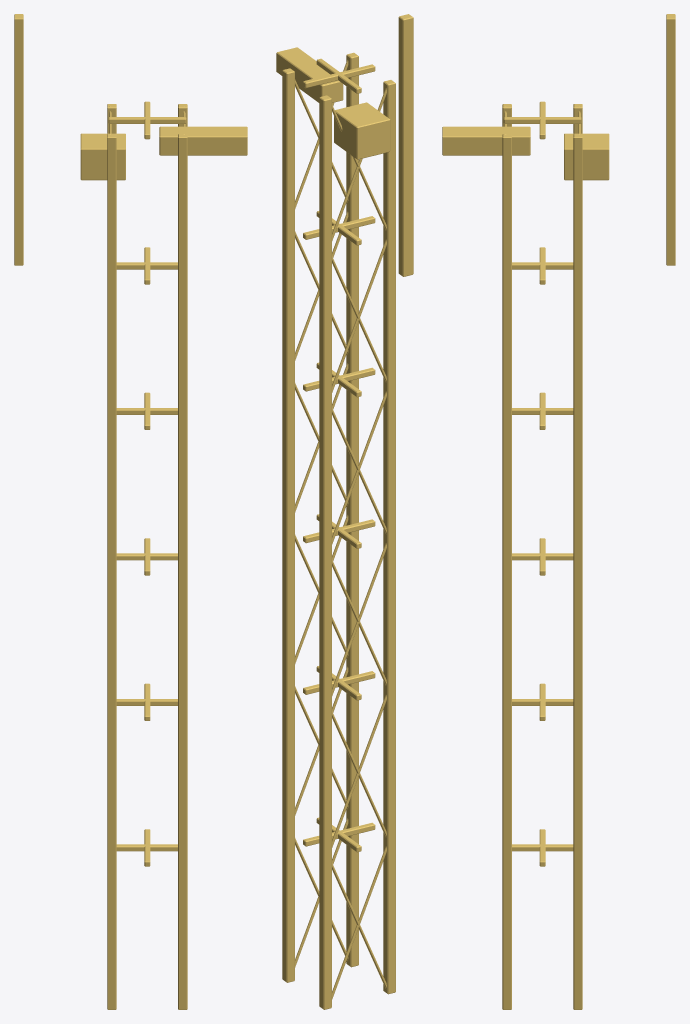
The model's file is SM_BgCrane_3x36x3.glb.
The picture shows the model from 3 angles, left to right: view 1: azimuth 90°, elevation 25°; view 2: azimuth 210°, elevation 25°; view 3: azimuth 270°, elevation 25°; orthographic projection. The views are drawn at different scales.
Parts seen in each view (by area): view 1: SM_BgCrane_3x36x3; view 2: SM_BgCrane_3x36x3; view 3: SM_BgCrane_3x36x3.
Part boxes in pixels (left/top/right/bottom): SM_BgCrane_3x36x3: left=14, top=14, right=247, bottom=1009; SM_BgCrane_3x36x3: left=276, top=14, right=413, bottom=1009; SM_BgCrane_3x36x3: left=442, top=14, right=675, bottom=1009.
Size of the model in its own units: 3 by 40.31 by 8.73.
